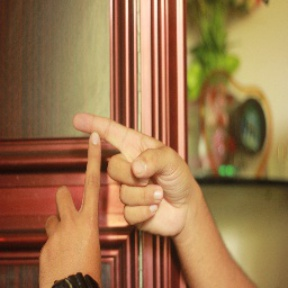T: (39, 106, 160, 246)
